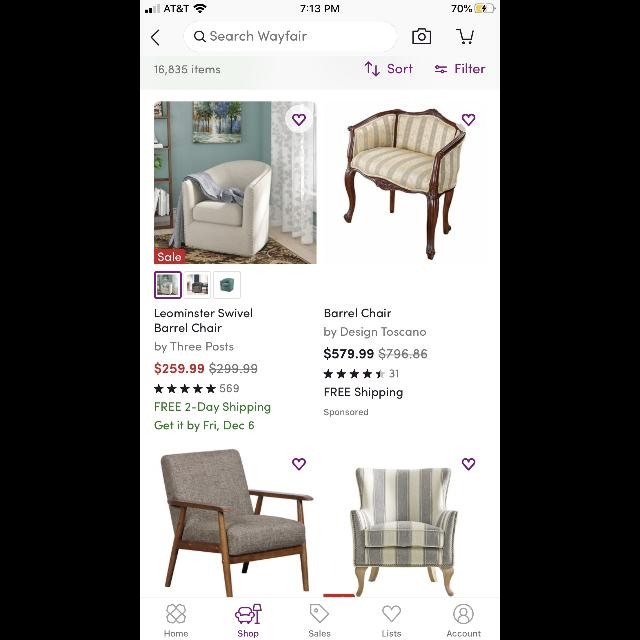icon: (286, 106, 312, 132), (154, 384, 216, 394), (324, 369, 386, 378), (310, 604, 330, 624), (453, 604, 473, 624), (412, 28, 432, 44), (383, 606, 401, 622), (456, 30, 474, 44), (364, 62, 380, 76), (462, 458, 476, 470), (292, 458, 306, 470), (462, 114, 474, 126), (151, 30, 159, 46), (194, 32, 206, 42), (436, 66, 446, 74)
image: (155, 102, 317, 264), (161, 449, 313, 597), (344, 108, 466, 260), (324, 468, 458, 596), (154, 271, 182, 299), (213, 271, 240, 299), (184, 272, 212, 298), (236, 604, 262, 624), (167, 604, 186, 624)
input: (185, 22, 398, 52)
text: (156, 402, 270, 413), (211, 31, 307, 44), (324, 348, 428, 360), (155, 363, 257, 375), (154, 421, 253, 432), (324, 328, 426, 338), (156, 308, 252, 318), (155, 342, 233, 353), (326, 388, 402, 398), (325, 308, 391, 318), (156, 65, 220, 75), (155, 324, 221, 332), (324, 409, 368, 416), (455, 64, 485, 74), (388, 64, 412, 74), (448, 630, 480, 636), (239, 630, 259, 638), (220, 384, 238, 392), (165, 630, 188, 636), (310, 630, 330, 636), (383, 630, 401, 636), (390, 370, 398, 378)
uppertaskbar: (140, 0, 500, 14)
